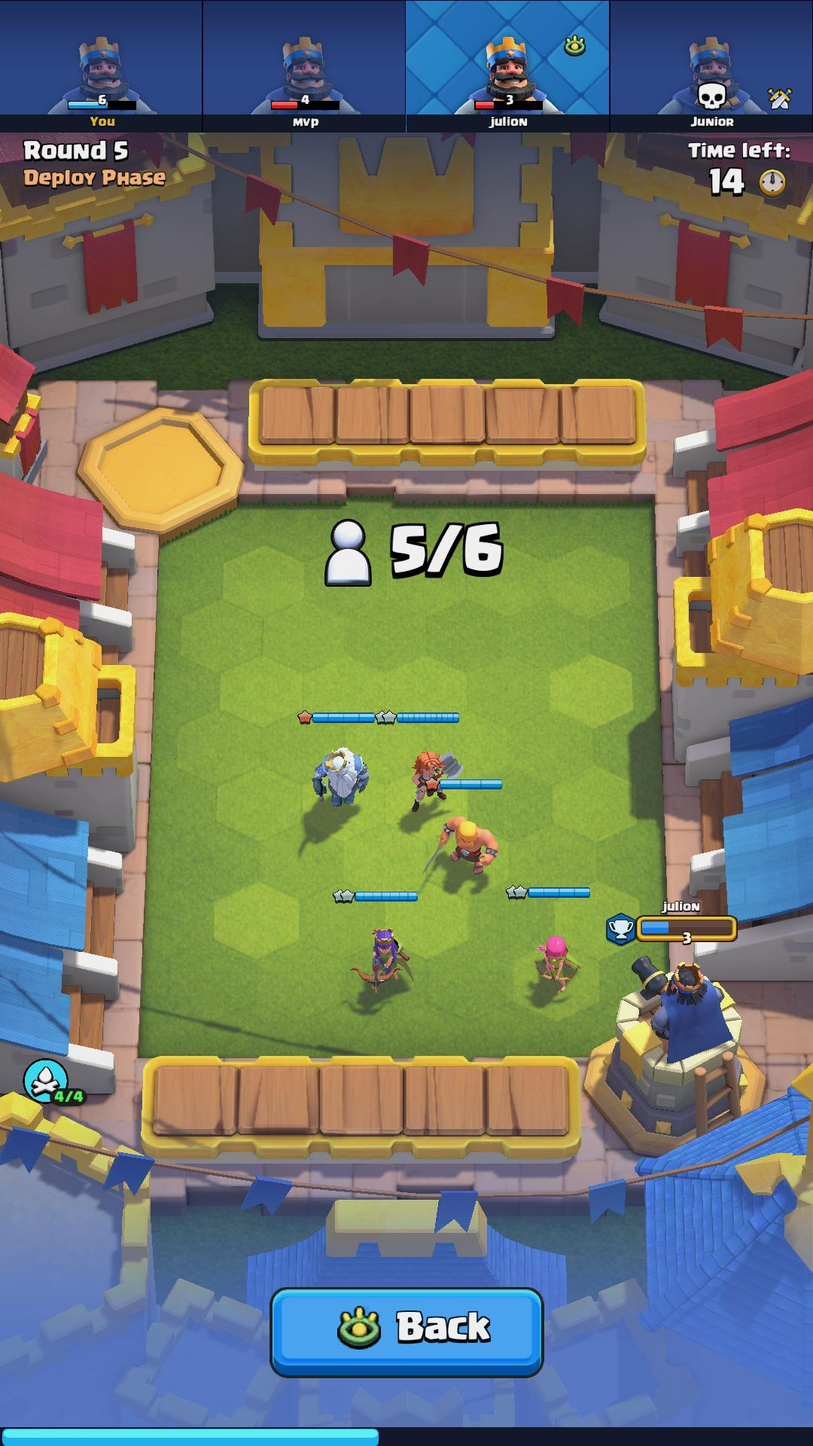archer: (524, 927, 588, 1000)
barbarian: (425, 813, 509, 874)
ghost: (300, 735, 374, 804)
queen: (334, 916, 425, 1002)
valkyrie: (401, 740, 463, 822)
